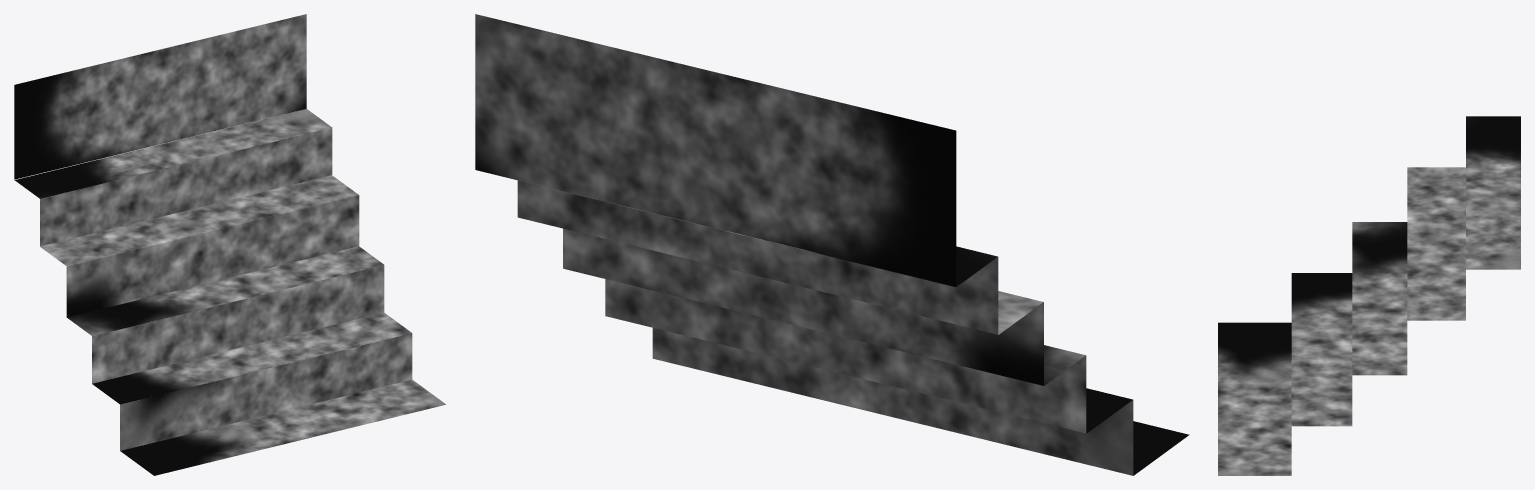
File: research.obj
3 renders of one model, left to right at view 1: azimuth 30°, elevation 25°; view 2: azimuth 150°, elevation 25°; view 3: azimuth 270°, elevation 25°, orthographic. The views are drawn at different scales.
Visible parts, largest first — view 1: Plane.002_Plane.003; view 2: Plane.002_Plane.003; view 3: Plane.002_Plane.003.
Part boxes in pixels (box(x1,y1,x2,y2)): Plane.002_Plane.003: box(14, 14, 445, 475); Plane.002_Plane.003: box(475, 14, 1189, 475); Plane.002_Plane.003: box(1218, 116, 1520, 475).
Bounding box in the file's own units: 14.41 × 13.51 × 11.98.
